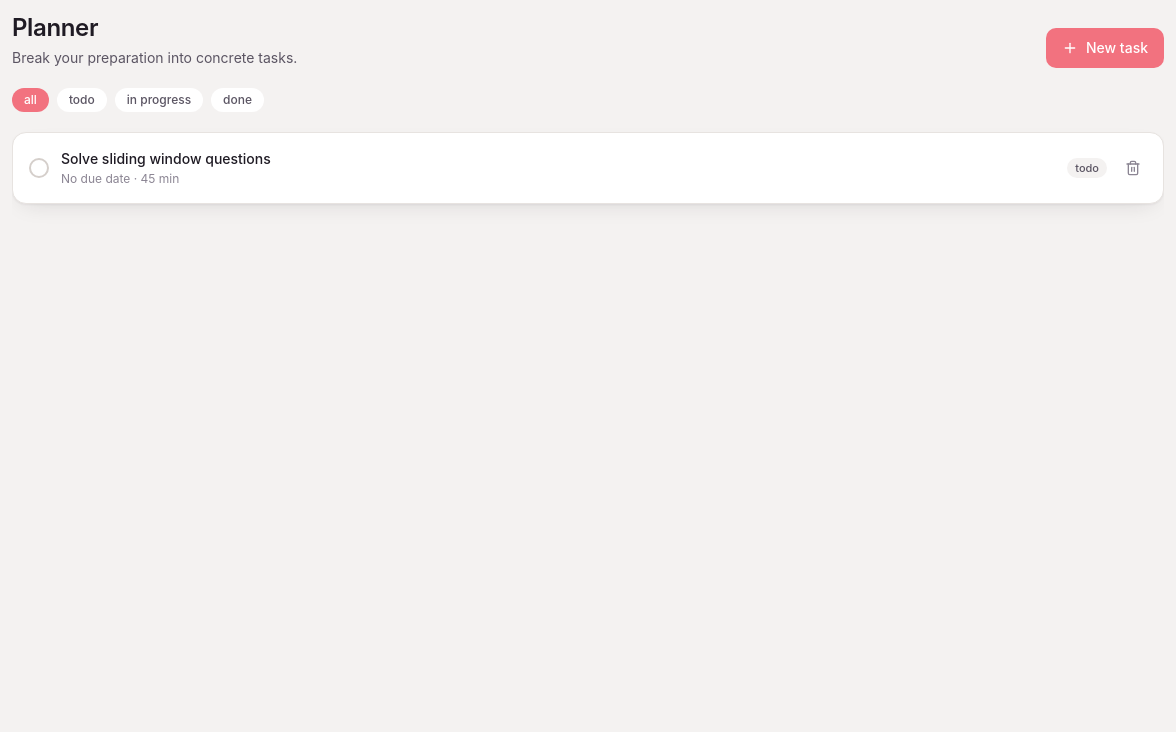
Test: PlannerPage › validates the task title before submitting
Click the button "New task" at (1105, 48), box [1046,28,1164,68]
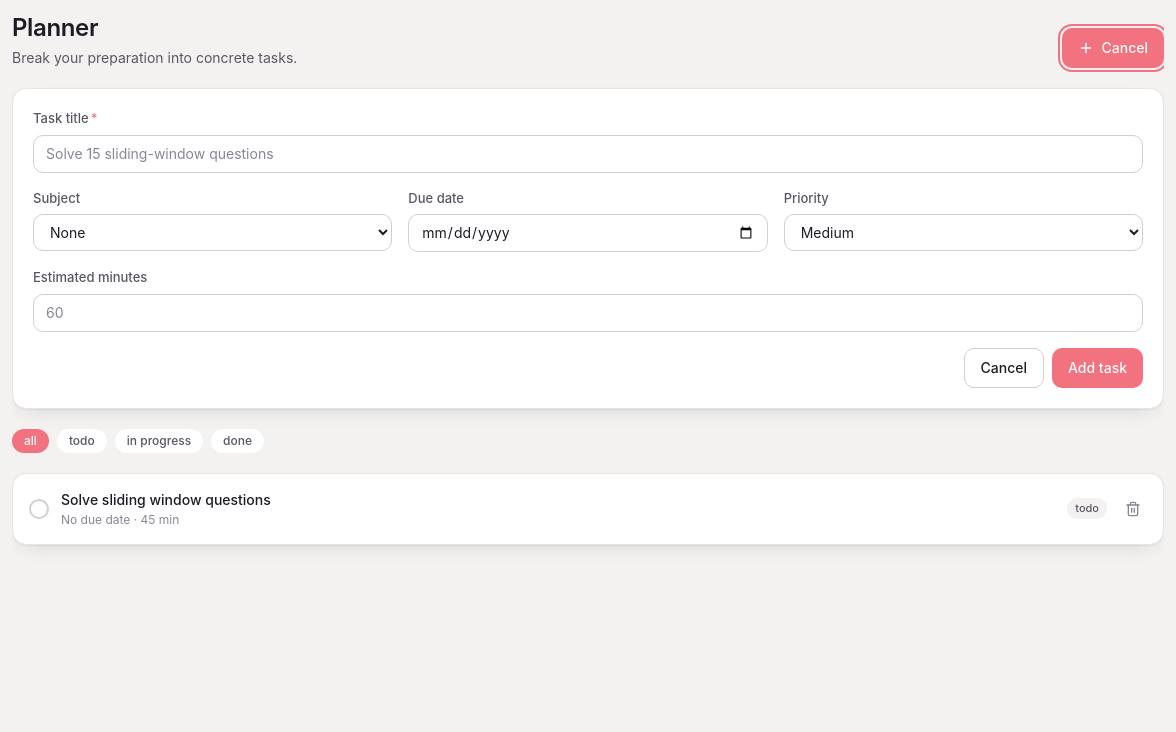
Type "ab" into the field labelled "Task title*" at (588, 154), box [33,134,1143,172]
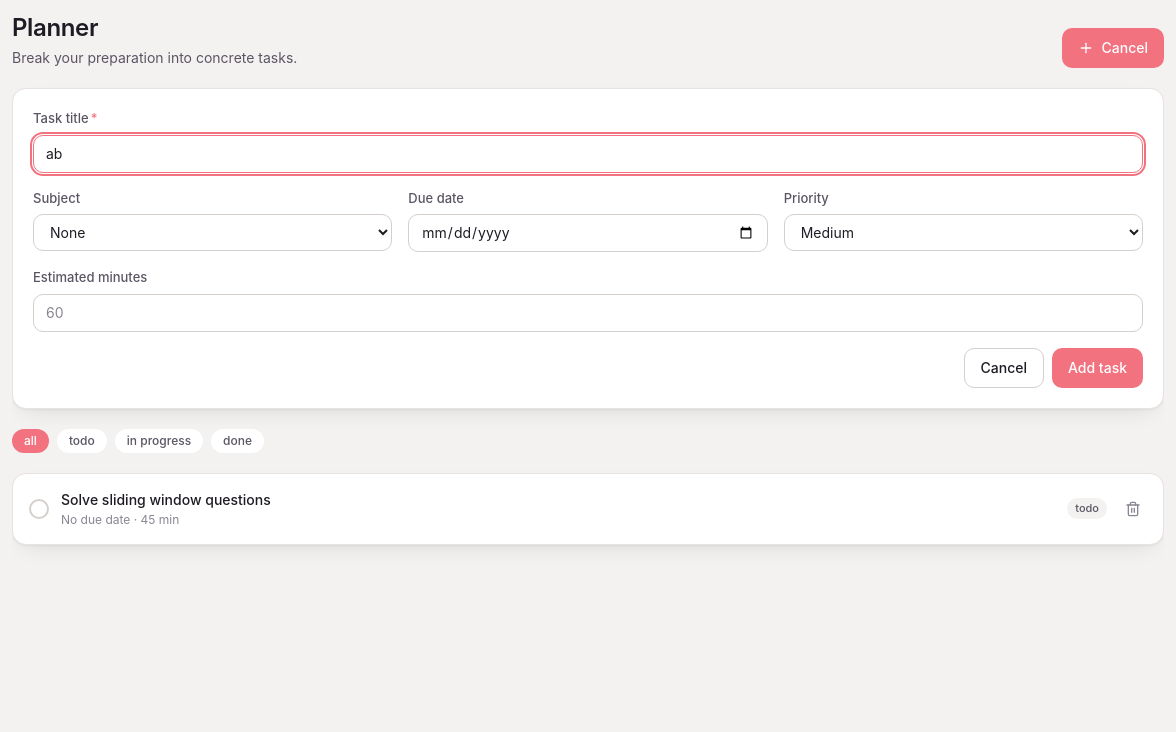
Click the button "Add task" at (1098, 368), box [1052,348,1143,388]
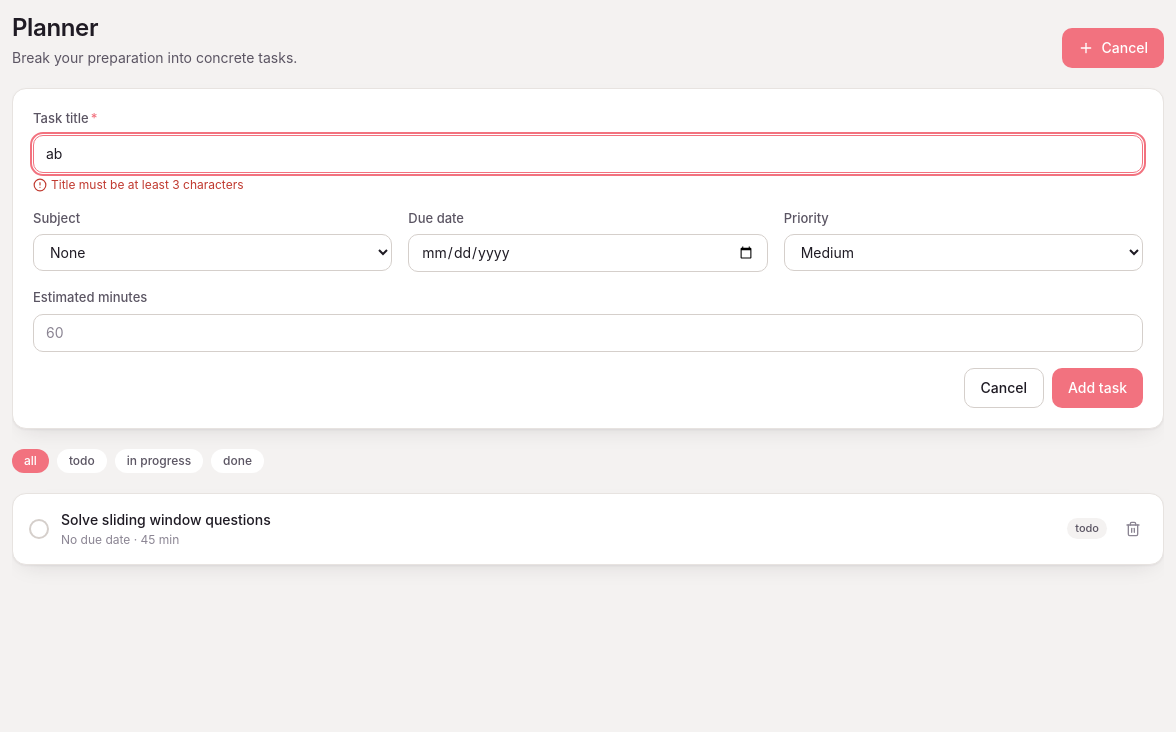
Expected: the text "Title must be at least 3 characters" is shown, [33,176,244,192]
